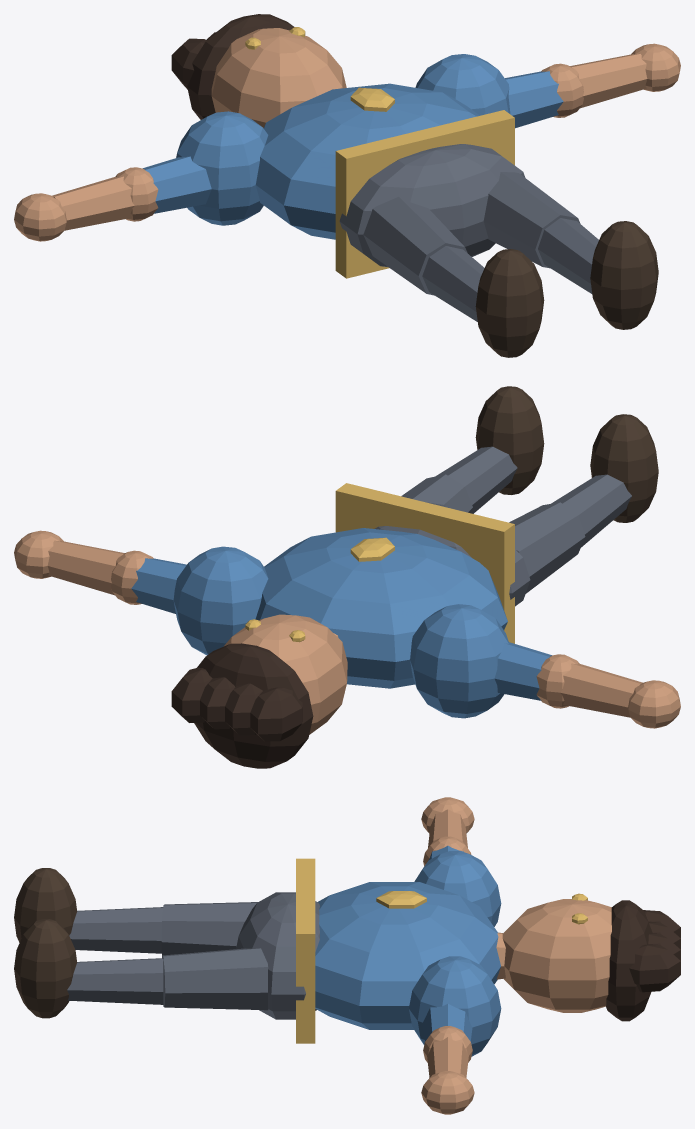
The model's file is base-male.glb.
The picture shows the model from 3 angles, top to bottom: view 1: azimuth 30°, elevation 25°; view 2: azimuth 150°, elevation 25°; view 3: azimuth 270°, elevation 25°; orthographic projection. The views are drawn at different scales.
Visible parts, largest first — view 1: Torso, Pelvis, Head, Belt, Shoulder.001, Boot, Boot.001, Thigh, Thigh.001, Shoulder, Hair_Cap, Shin (+11 smaller); view 2: Torso, Shoulder.001, Belt, Shoulder, Hair_Cap, Head, Boot, Boot.001, Thigh, Forearm, Shin, Forearm.001 (+14 smaller); view 3: Torso, Head, Thigh.001, Shoulder, Pelvis, Boot, Thigh, Shin.001, Shin, Hair_Cap, Belt, Shoulder.001 (+10 smaller).
Part boxes in pixels (left/top/right/bottom): Torso: left=255, top=83, right=479, bottom=239; Pelvis: left=339, top=144, right=525, bottom=266; Head: left=211, top=28, right=346, bottom=127; Belt: left=335, top=110, right=514, bottom=278; Shoulder.001: left=176, top=111, right=268, bottom=225; Boot: left=590, top=221, right=658, bottom=329; Boot.001: left=475, top=249, right=544, bottom=357; Thigh: left=363, top=197, right=467, bottom=295; Thigh.001: left=483, top=172, right=580, bottom=268; Shoulder: left=415, top=54, right=510, bottom=115; Hair_Cap: left=187, top=14, right=294, bottom=119; Shin: left=422, top=246, right=484, bottom=321; Torso: left=255, top=528, right=507, bottom=688; Shoulder.001: left=410, top=604, right=509, bottom=718; Belt: left=335, top=483, right=514, bottom=643; Shoulder: left=173, top=546, right=268, bottom=655; Hair_Cap: left=194, top=643, right=313, bottom=768; Head: left=224, top=614, right=347, bottom=734; Boot: left=475, top=386, right=544, bottom=494; Boot.001: left=590, top=414, right=658, bottom=522; Thigh: left=509, top=502, right=585, bottom=593; Forearm: left=560, top=663, right=642, bottom=717; Shin: left=551, top=474, right=631, bottom=547; Forearm.001: left=47, top=540, right=124, bottom=595; Torso: left=315, top=882, right=500, bottom=1029; Head: left=502, top=899, right=611, bottom=1012; Thigh.001: left=162, top=948, right=268, bottom=1010; Shoulder: left=409, top=956, right=501, bottom=1056; Pelvis: left=236, top=892, right=319, bottom=1019; Boot: left=14, top=919, right=77, bottom=1018; Thigh: left=161, top=902, right=257, bottom=955; Shin.001: left=67, top=958, right=163, bottom=1004; Shin: left=69, top=907, right=163, bottom=953; Hair_Cap: left=605, top=900, right=652, bottom=1021; Belt: left=296, top=858, right=315, bottom=1043; Shoulder.001: left=414, top=851, right=501, bottom=926.
Bounding box in the file's own units: 1.95 × 0.377 × 1.88.
